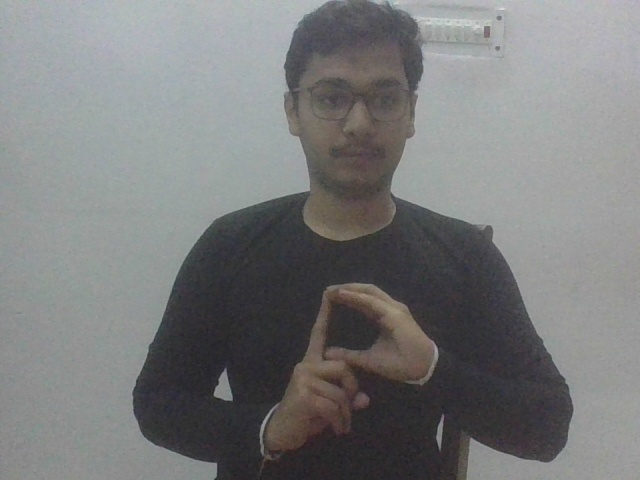D: (258, 279, 441, 467)
